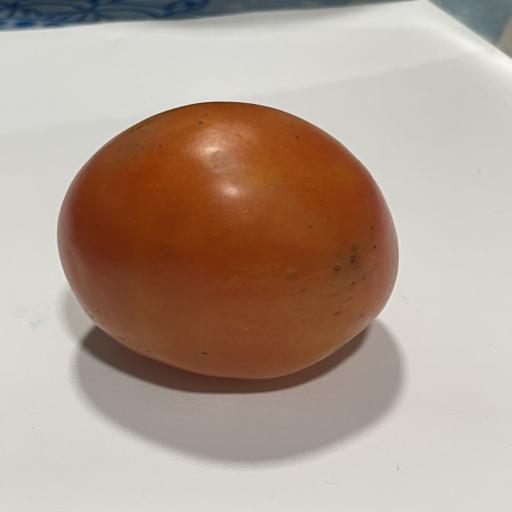unripe: (58, 102, 398, 379)
